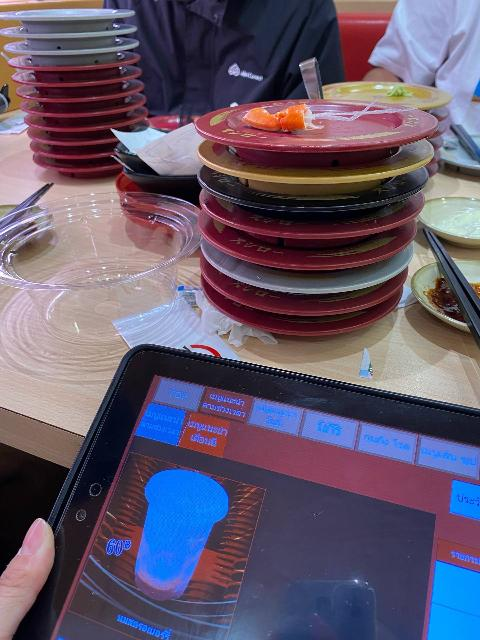janback: (196, 177, 435, 210)
jangold: (196, 144, 430, 186), (313, 77, 455, 108)
janred: (195, 192, 424, 243), (196, 102, 425, 148), (201, 230, 406, 269), (199, 303, 399, 342), (203, 278, 404, 309), (113, 179, 196, 210), (14, 87, 142, 103), (16, 160, 123, 175), (13, 78, 156, 88), (120, 211, 189, 231), (11, 62, 145, 72), (17, 106, 141, 116), (19, 137, 124, 147), (29, 146, 115, 158), (25, 121, 149, 129), (425, 166, 443, 178), (429, 136, 442, 150), (432, 149, 443, 163), (435, 122, 445, 137), (428, 111, 448, 118)
janwhite: (195, 253, 413, 291), (0, 0, 155, 21), (0, 21, 157, 40), (2, 42, 149, 57)
